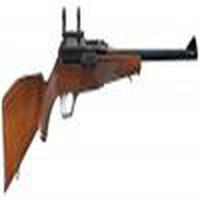gun: (3, 18, 199, 194)
